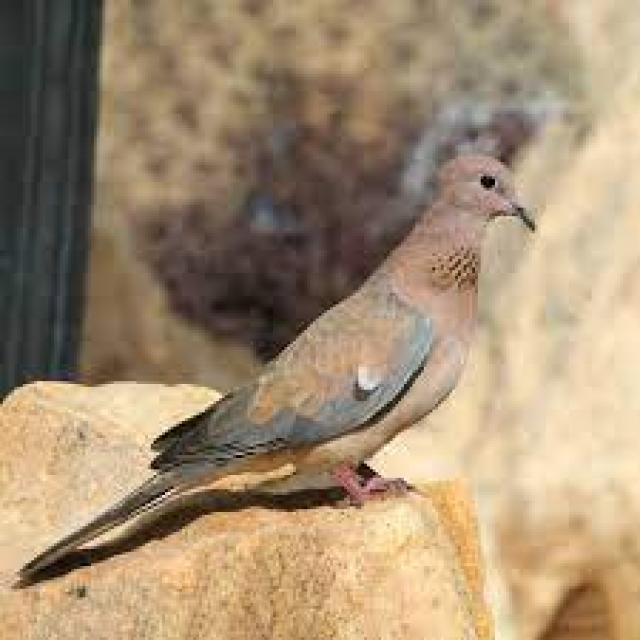bird: (12, 140, 545, 594)
